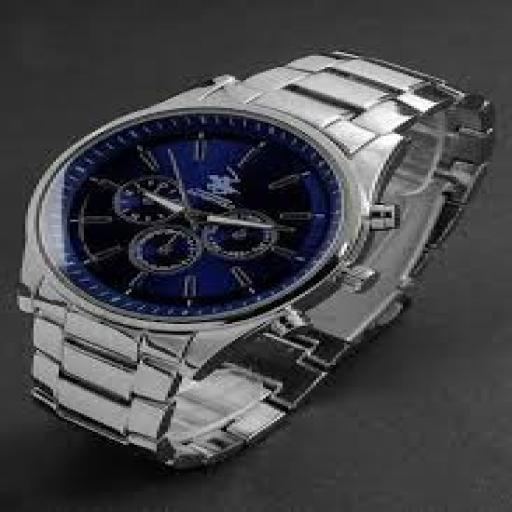KolSaati: (6, 24, 498, 483)
